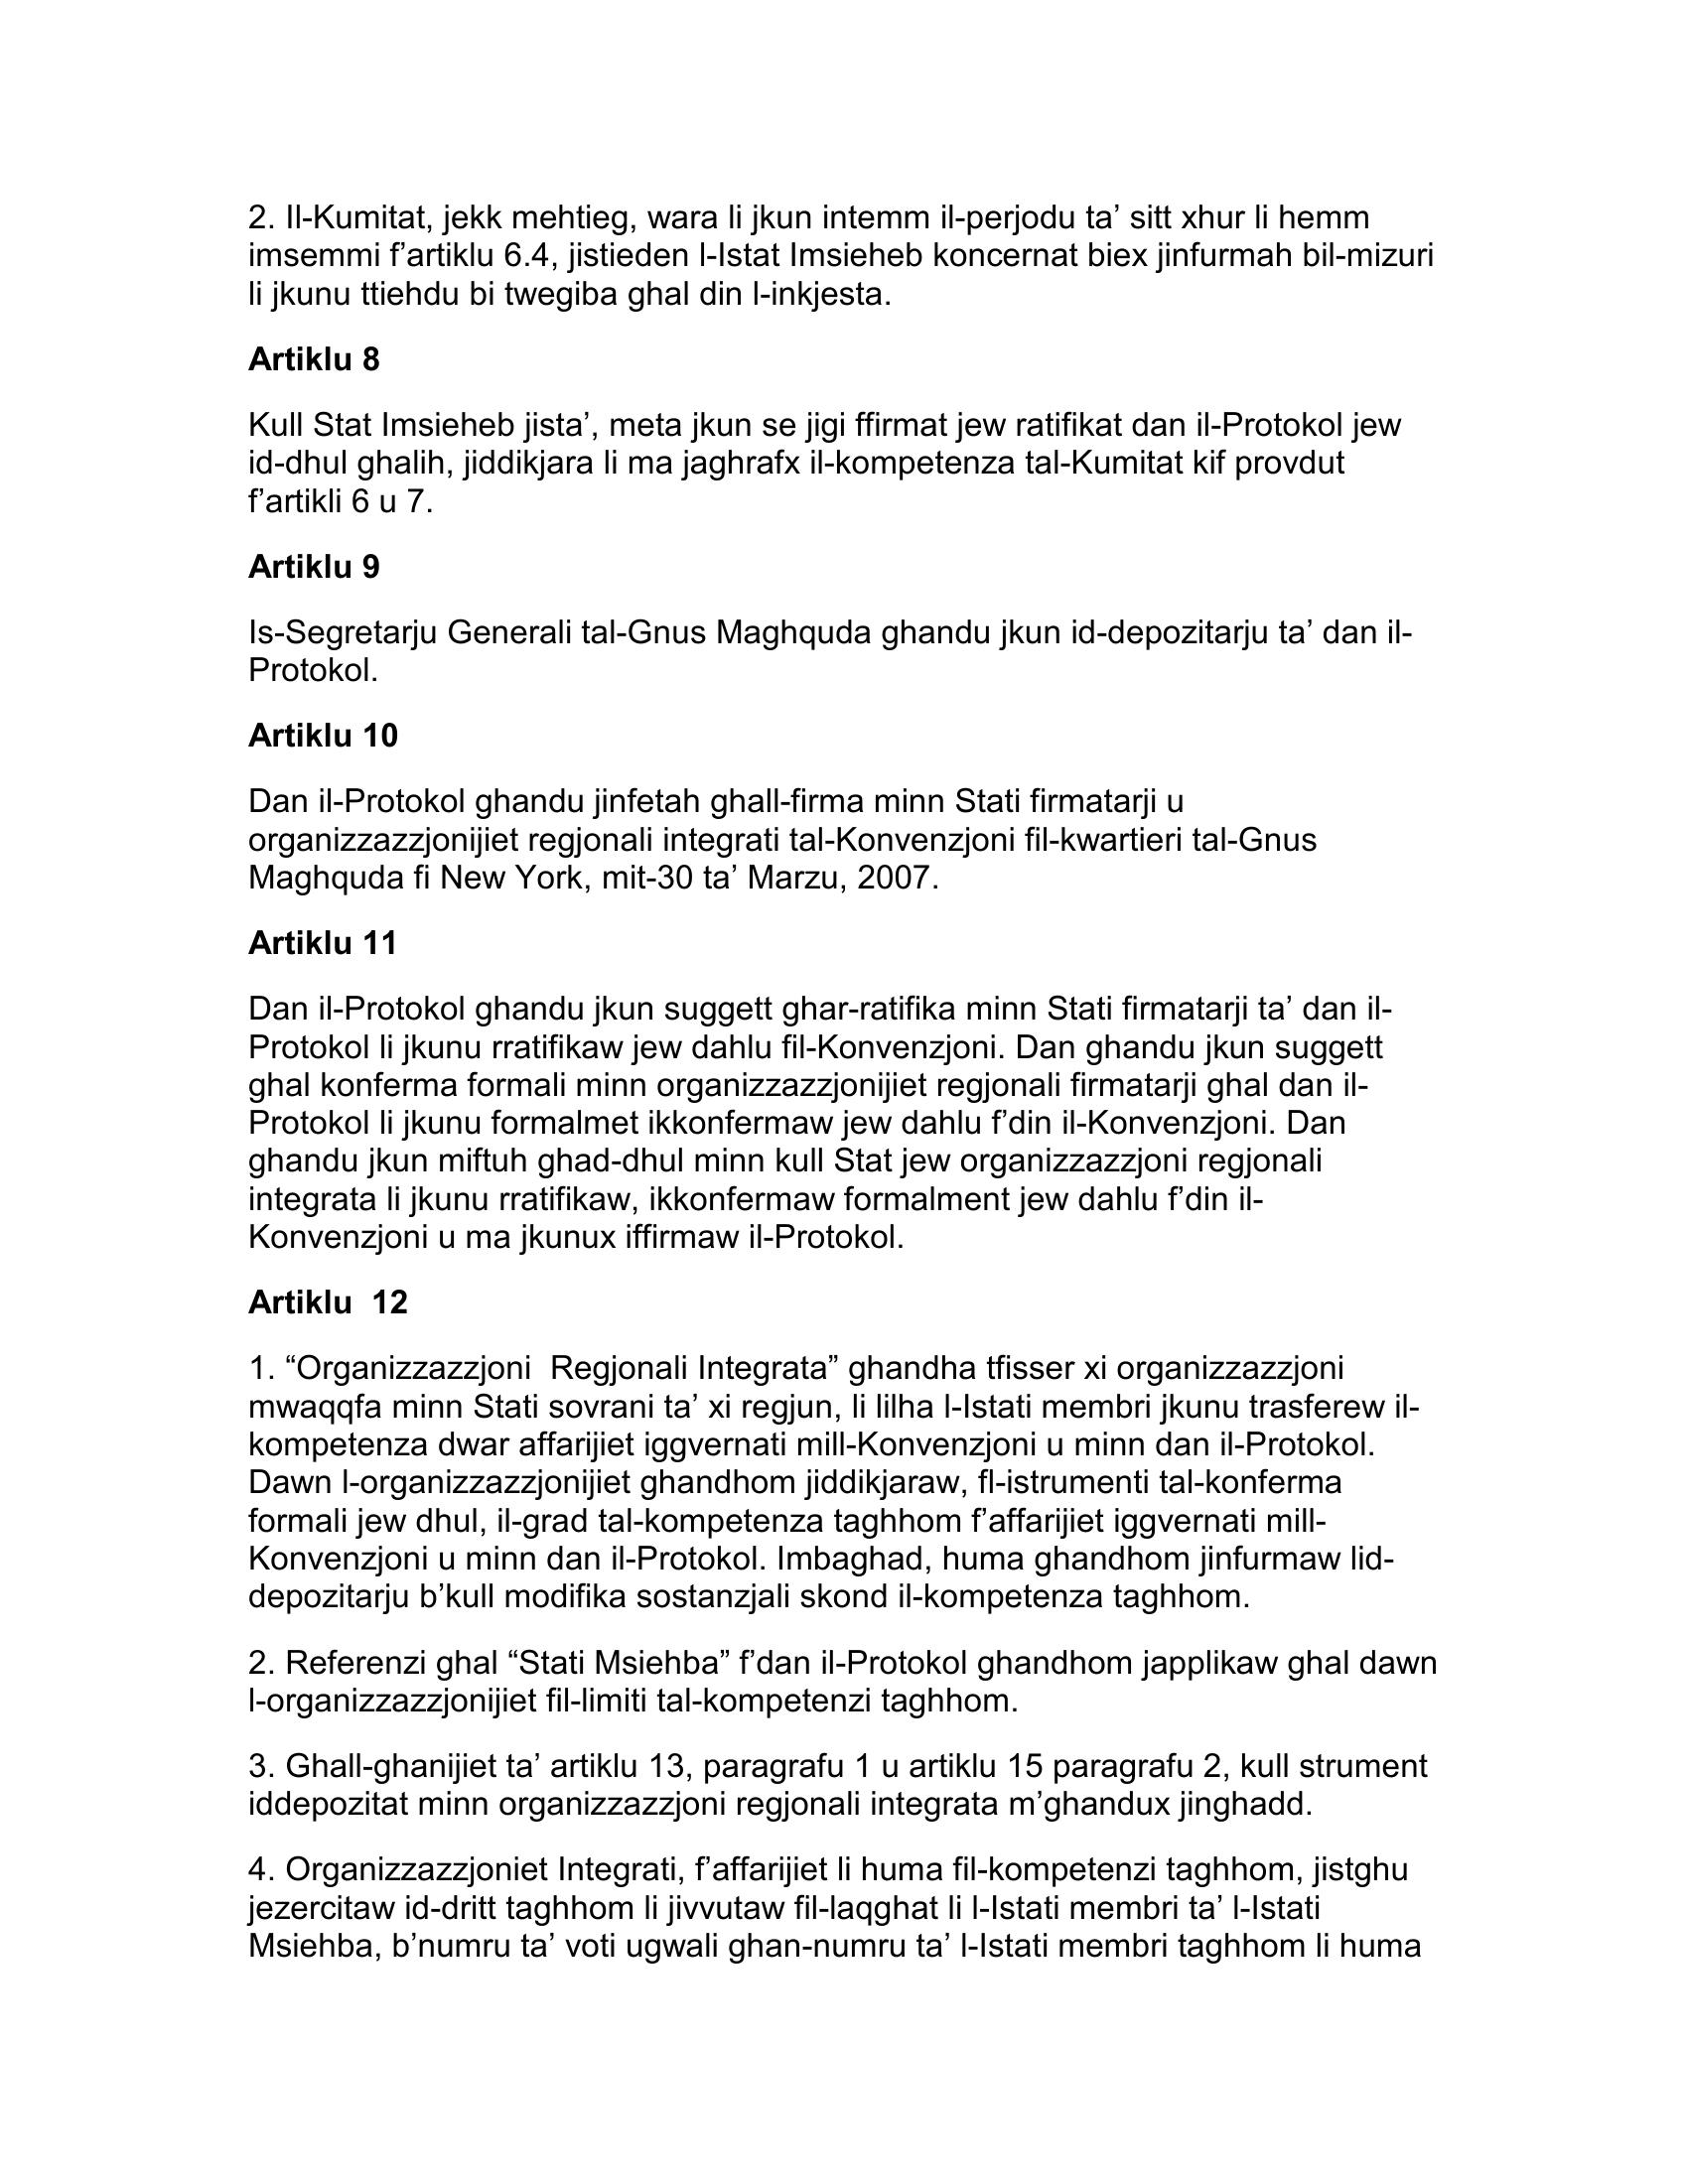text: (218, 168, 1450, 2008)
